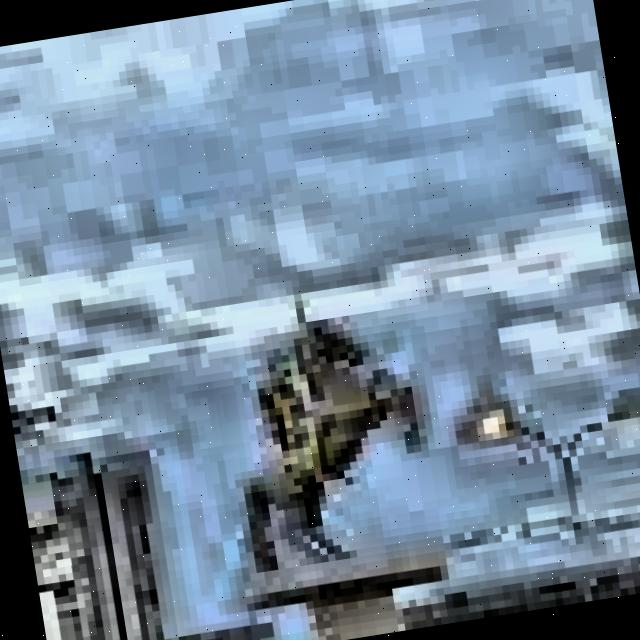alexander the great monument: (205, 276, 457, 640)
